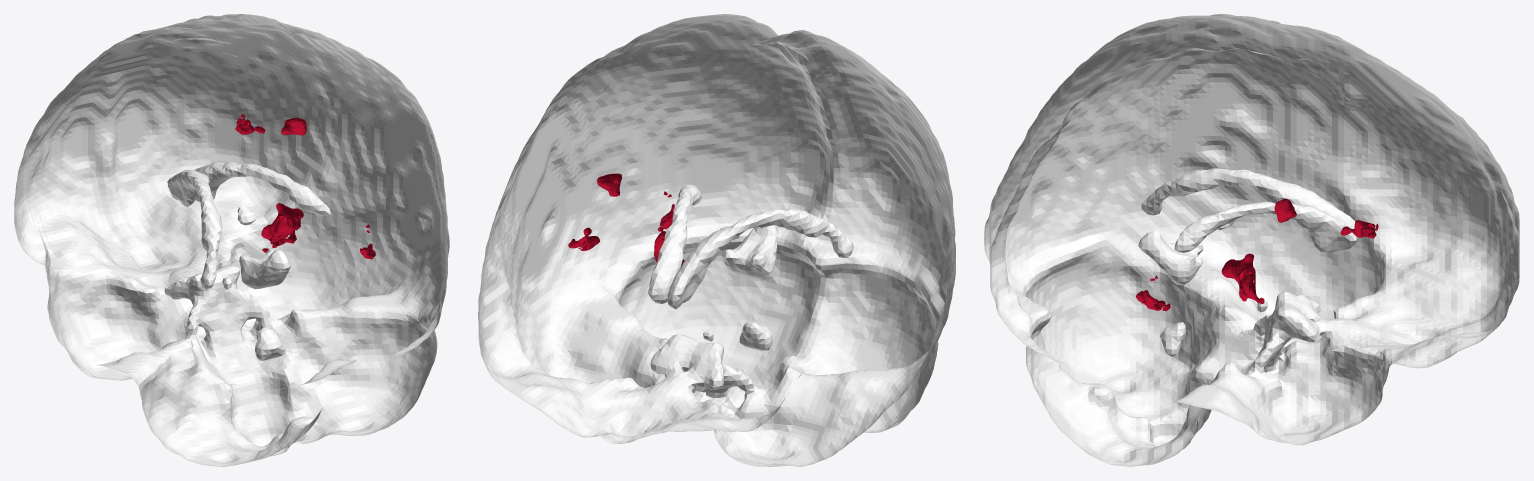
File: TPS_F.gltf
3 renders of one model, left to right at view 1: azimuth 30°, elevation 25°; view 2: azimuth 150°, elevation 25°; view 3: azimuth 270°, elevation 25°, orthographic. The views are drawn at different scales.
Visible parts, largest first — view 1: Renderer Node; view 2: Renderer Node; view 3: Renderer Node.
Boxes of the visible parts, left/top/right/bottom form: Renderer Node: left=14, top=14, right=449, bottom=466; Renderer Node: left=478, top=14, right=955, bottom=466; Renderer Node: left=984, top=14, right=1519, bottom=466.
Size of the model in its own units: 144 by 152 by 180.
Materials: 2 (2 with a texture image).
